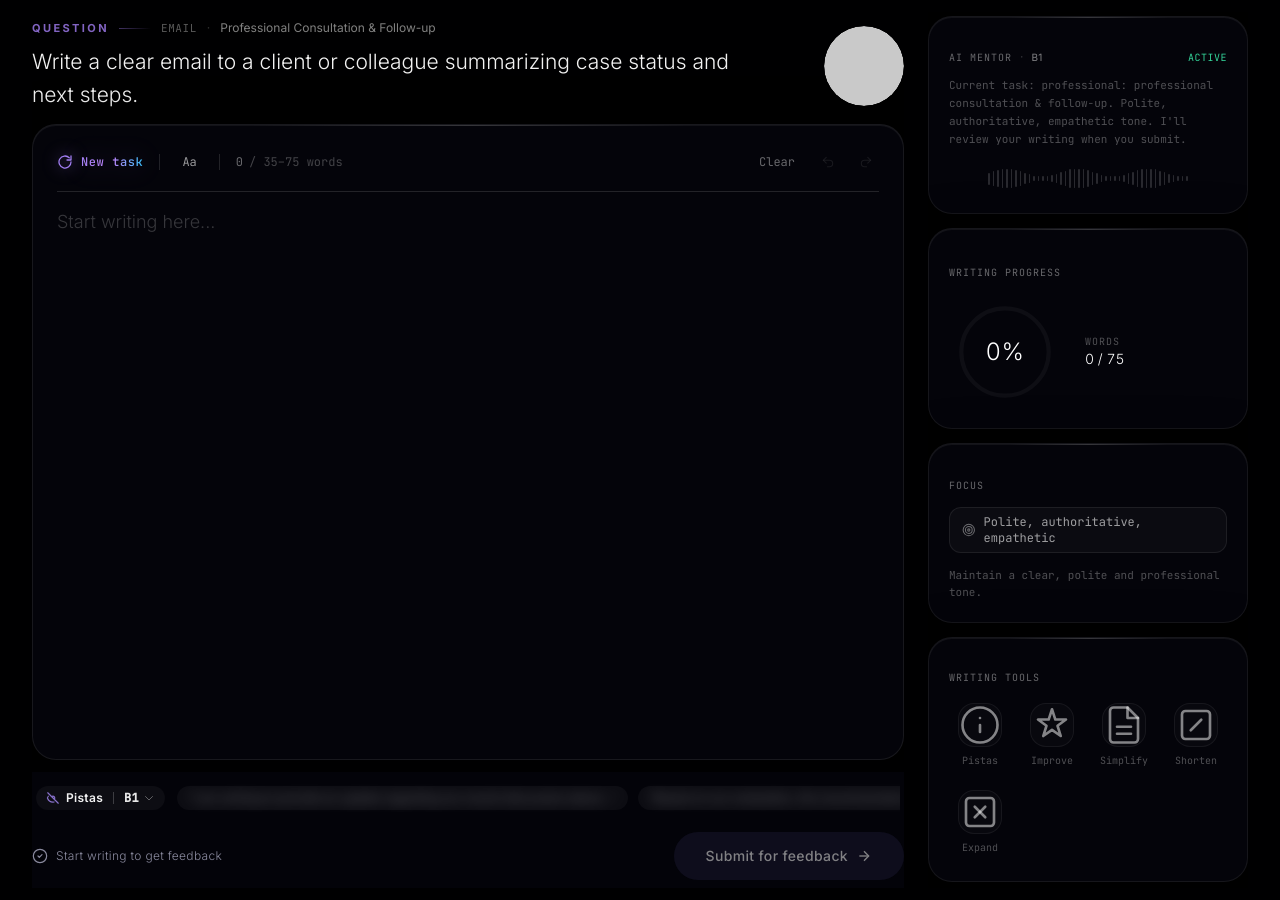
Test: Writing Feature - Full Use Case Suite › Use Case 4: Evaluates valid English submission, opens modal, and renders score gauges
In the text box with placeholder "Start writing here...": x=468, y=379 57,208 -> 879,550, type "Our organization has been focus on delivering high quality service to all clients."
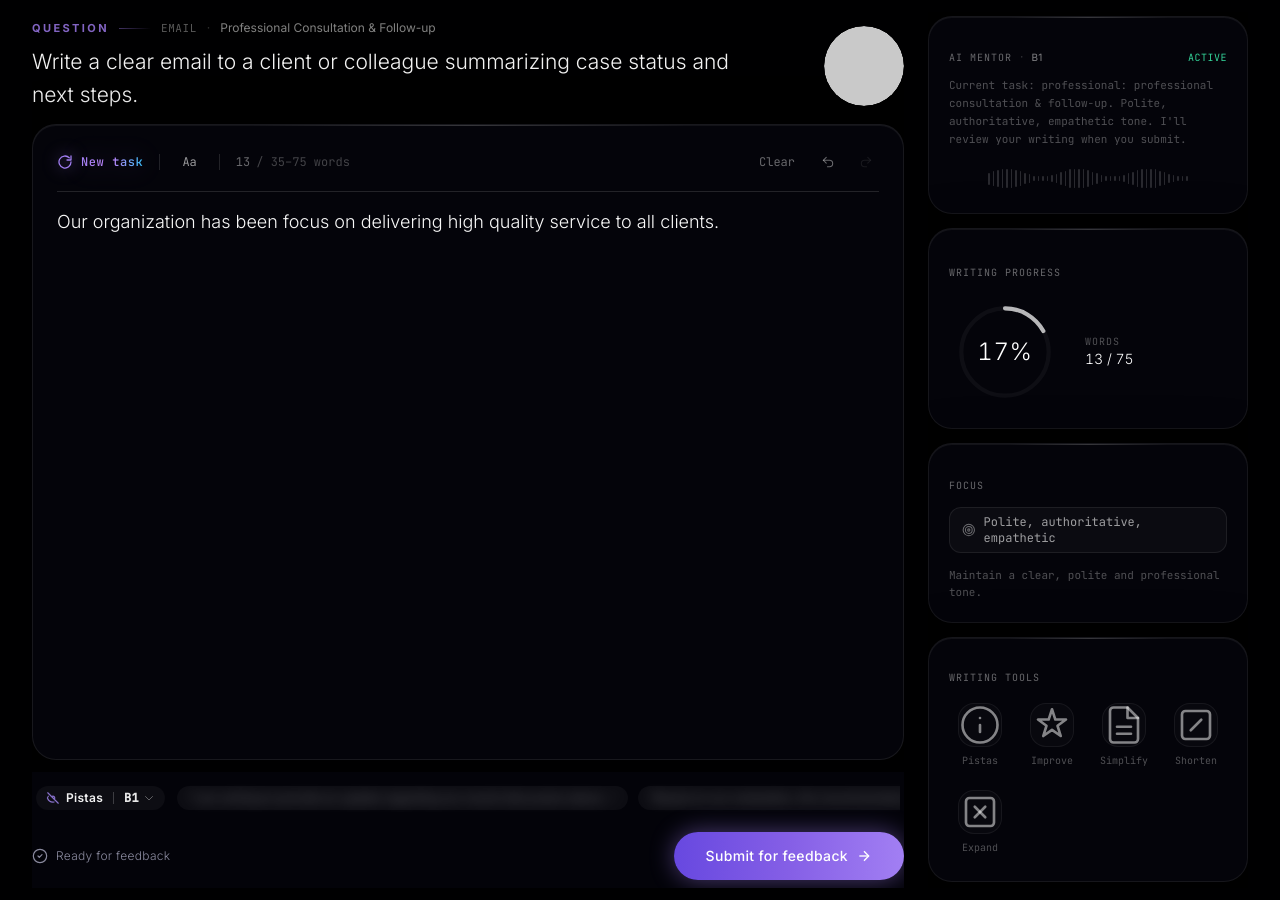
Click the text "Submit for feedback": x=777, y=856 706,847 -> 848,864
(page scrolled)
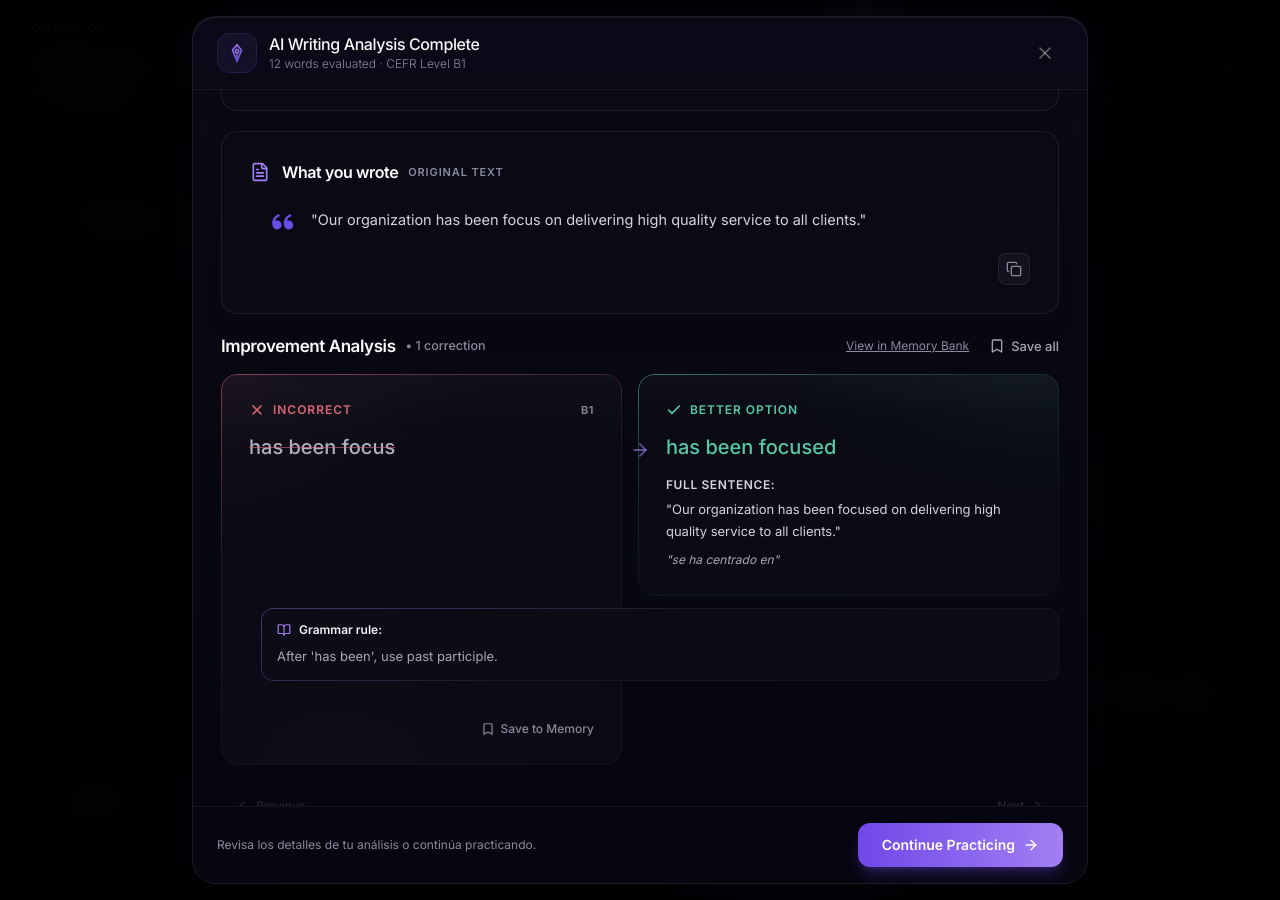
Expected: the heading "AI Writing Analysis Complete" is shown, 269,34 -> 480,54
Expected: the text "has been focused" is shown, 666,435 -> 836,459
